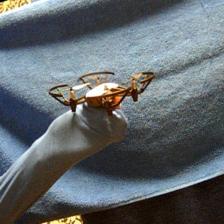drone: (46, 71, 156, 115)
